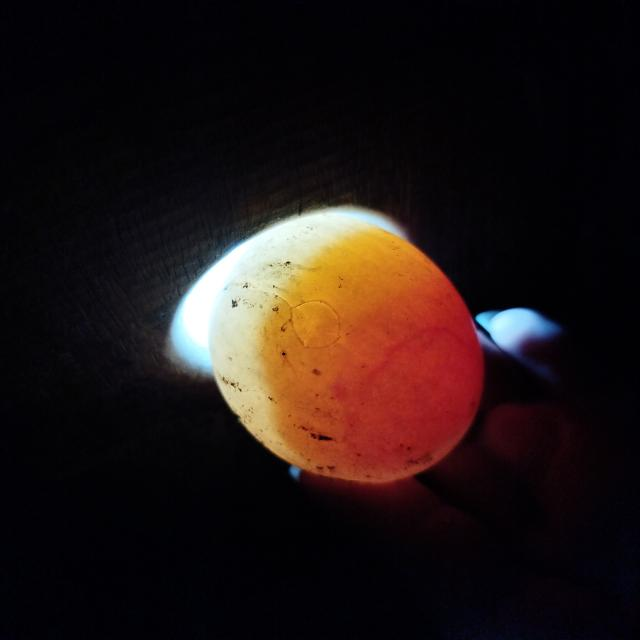Rachadura: (290, 302, 342, 347)
